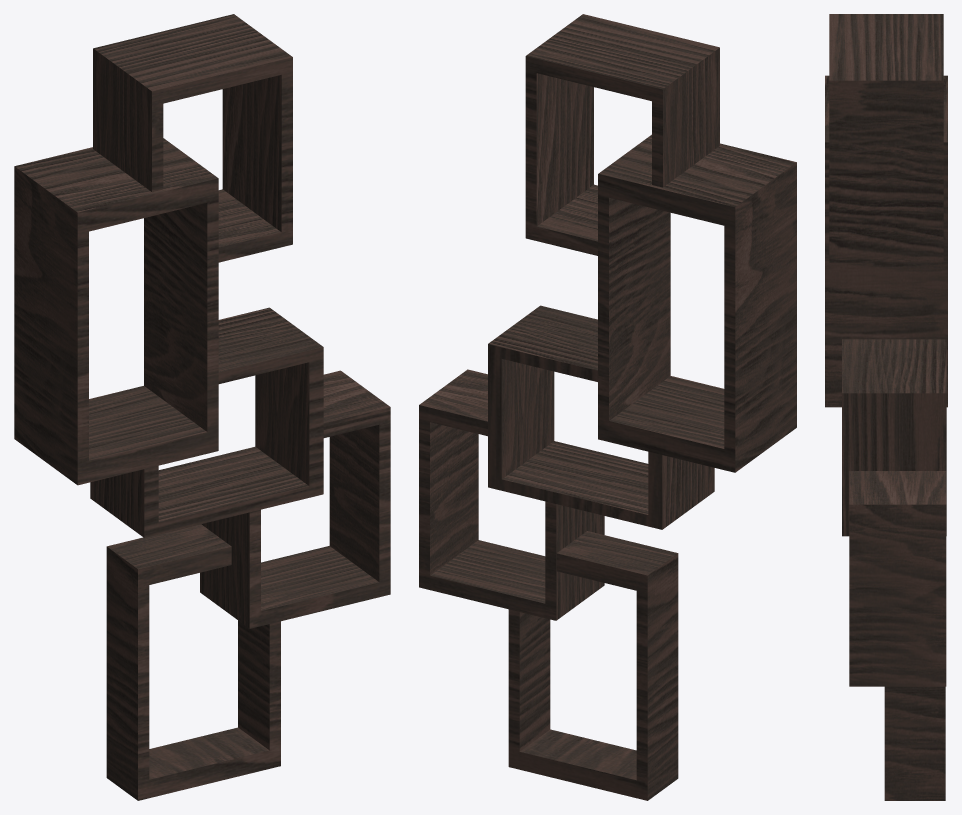
Rendered from wall_shelf_3.glb.
The picture shows the model from 3 angles, left to right: view 1: azimuth 30°, elevation 25°; view 2: azimuth 150°, elevation 25°; view 3: azimuth 270°, elevation 25°; orthographic projection. The views are drawn at different scales.
Visible parts, largest first — view 1: Cube.002; view 2: Cube.002; view 3: Cube.002.
Boxes of the visible parts, x1,y1,x2,y2 form: Cube.002: [14, 14, 390, 800]; Cube.002: [419, 14, 796, 800]; Cube.002: [825, 14, 947, 800].
Bounding box in the file's own units: 5.94 × 12.78 × 2.
Materials: 1 (1 with a texture image).
